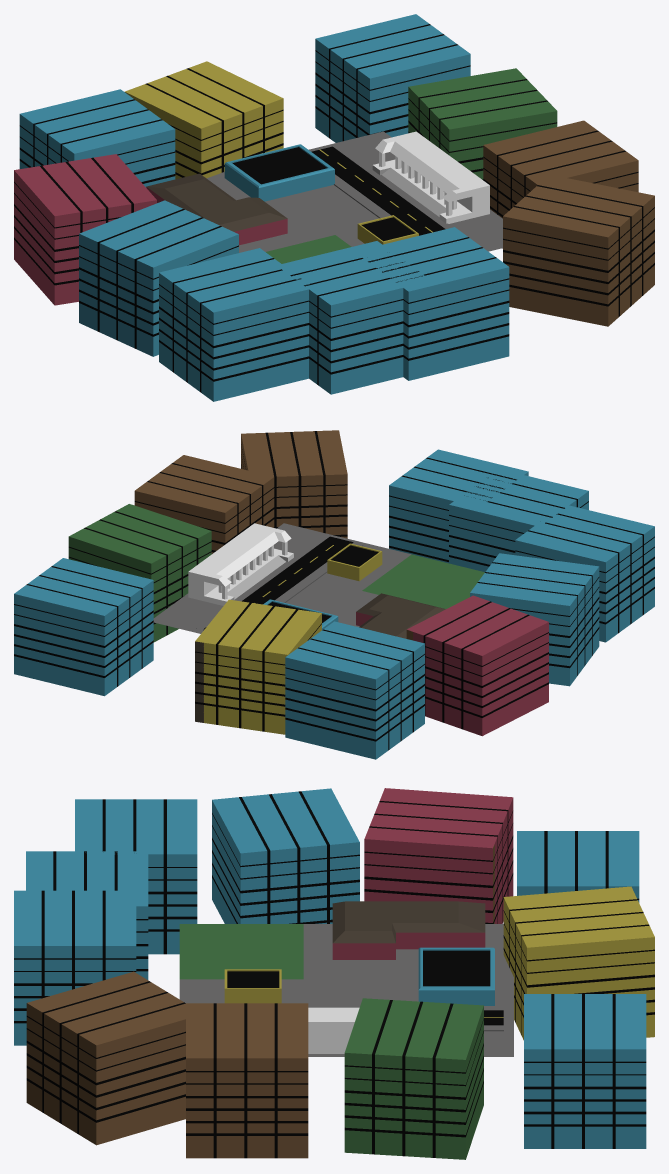
File: Surrounds.fbx
3 renders of one model, top to bottom at view 1: azimuth 30°, elevation 25°; view 2: azimuth 150°, elevation 25°; view 3: azimuth 270°, elevation 25°, orthographic. The views are drawn at different scales.
Visible parts, largest first — view 1: pPlane3; view 2: pPlane3; view 3: pPlane3.
Boxes of the visible parts, x1,y1,x2,y2 form: pPlane3: (14,14,654,401); pPlane3: (14,430,654,759); pPlane3: (14,788,654,1159).
Size of the model in its own units: 144 by 24.6 by 143.
